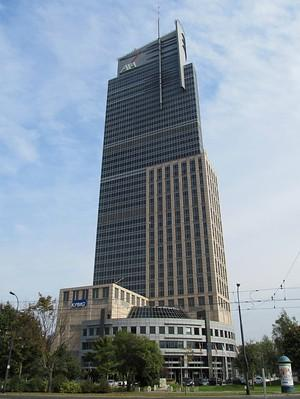building: (88, 16, 240, 386)
